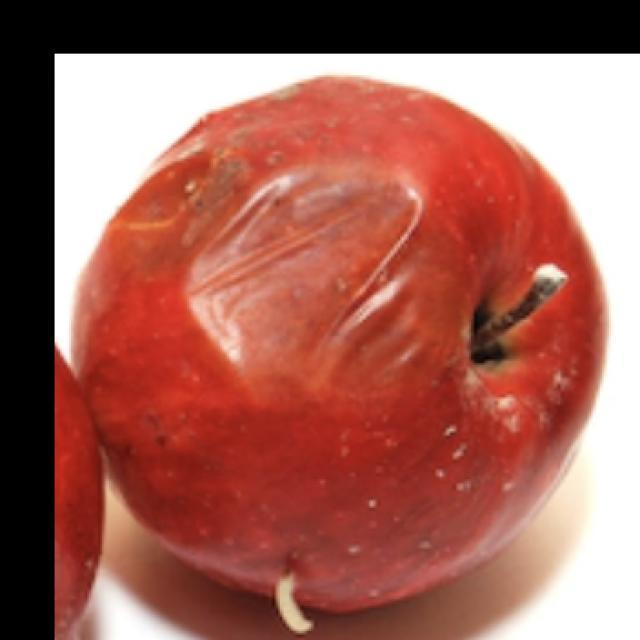Rotten: (79, 75, 604, 623)
